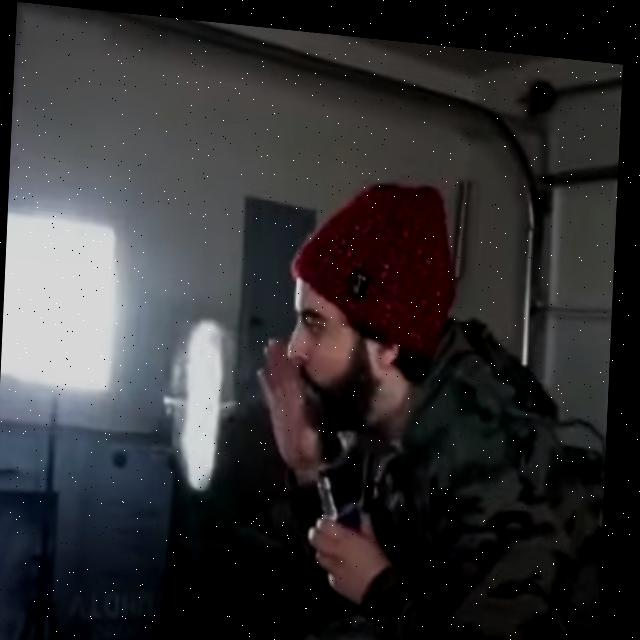vape: (319, 461, 367, 530)
